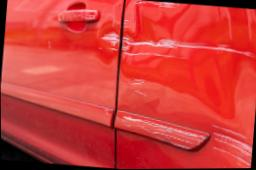Door: (63, 23, 256, 92)
